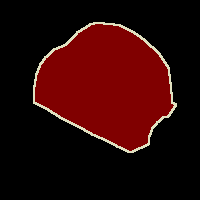hat: (34, 22, 176, 152)
